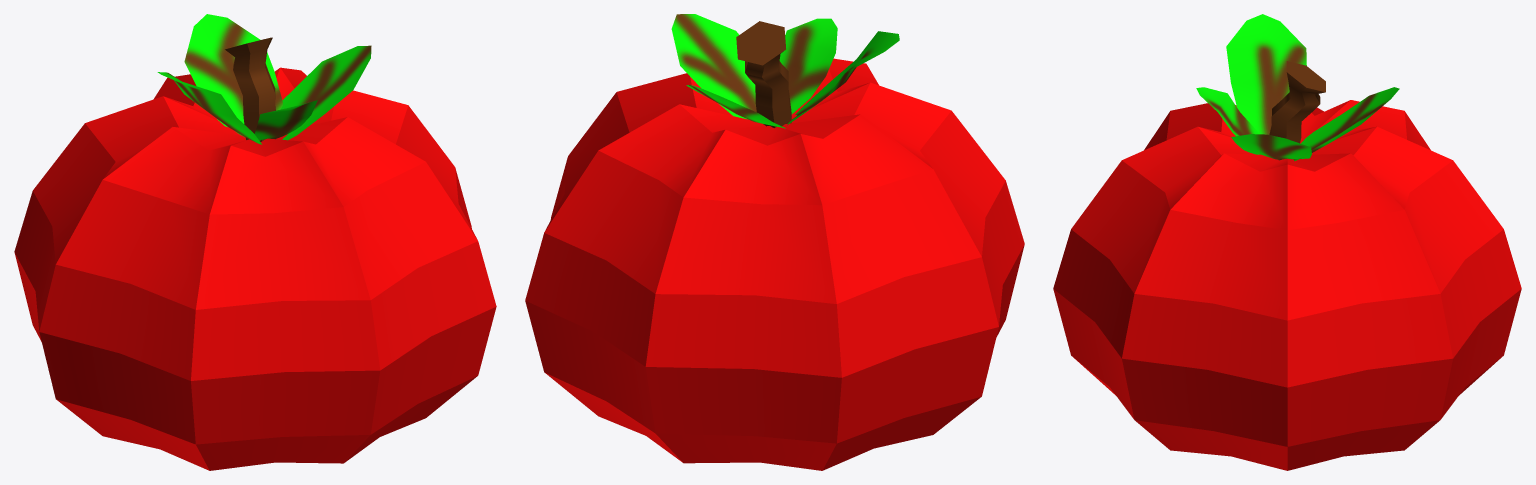
File: Tomato.fbx
The picture shows the model from 3 angles, left to right: view 1: azimuth 30°, elevation 25°; view 2: azimuth 150°, elevation 25°; view 3: azimuth 270°, elevation 25°; orthographic projection. The views are drawn at different scales.
Visible parts, largest first — view 1: Tomato_geo; view 2: Tomato_geo; view 3: Tomato_geo.
Boxes of the visible parts, <box> form: Tomato_geo: <box>14,14,496,470</box>; Tomato_geo: <box>525,14,1024,470</box>; Tomato_geo: <box>1053,14,1521,470</box>.
Size of the model in its own units: 2 by 1.65 by 2.
